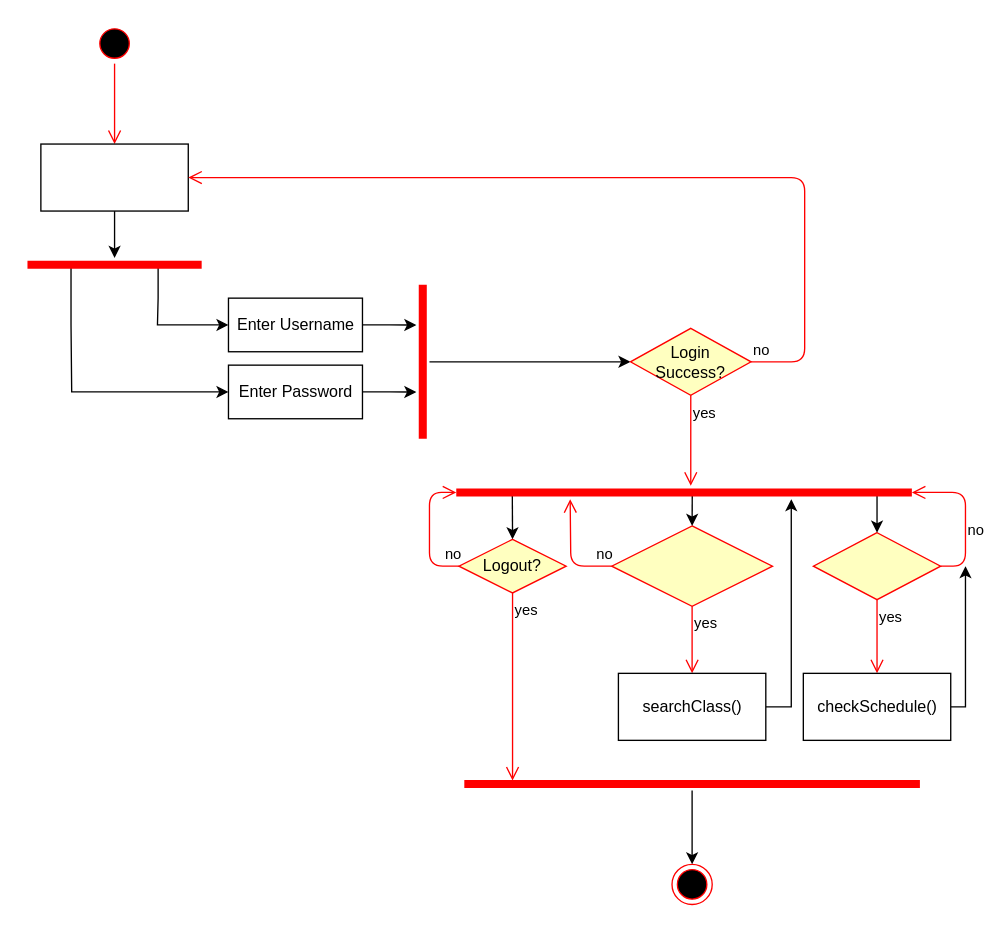
Some shapes in this 1006 by 929 pixel diagram are drawn without their labels. The box of each missing label's shape, as (x1, y1, x2, y2) in pixels:
Attempt login: (40, 143, 188, 211)
Check classes?: (610, 525, 773, 606)
Check Roster?: (812, 531, 941, 600)
